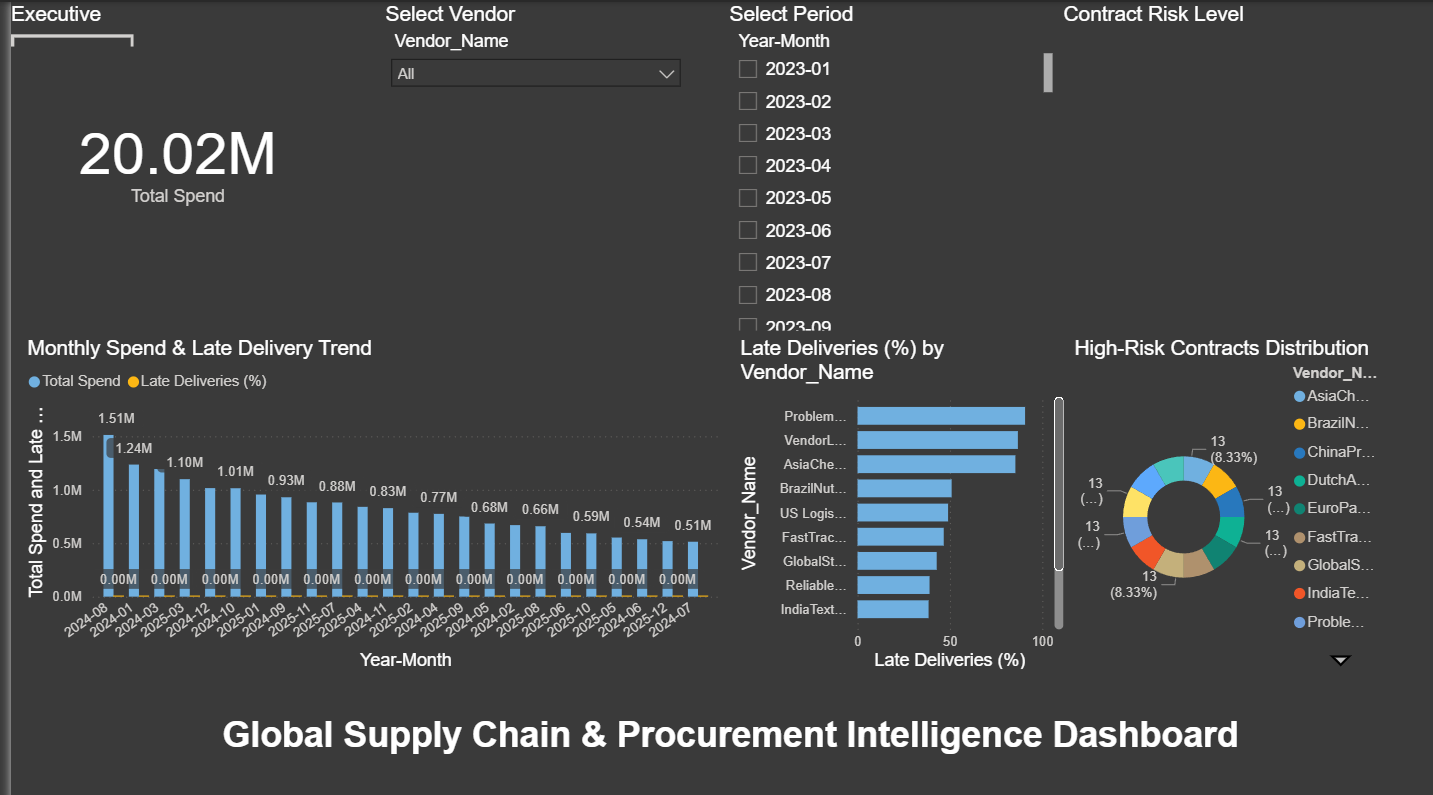

The page's visual inventory and layout, read from the dashboard file:
{"tool":"powerbi","page":{"name":"Executive Overview","canvas":[1280,720],"ordinal":2},"visuals":[{"type":"card","fields":{"Values":["procurement.Total Spend"]},"box":[10,0,280,280],"z":0},{"type":"slicer","title":"Select Vendor","fields":{"Values":["procurement.Vendor_Name"]},"box":[331.2,0,280,280],"z":1},{"type":"slicer","title":"Select Period","fields":{"Values":["Dim_Date.Year-Month"]},"box":[640.1,0,299.9,299.9],"z":2},{"type":"clusteredColumnChart","title":"Contract Risk Level","box":[940,0,299.9,299.9],"z":3},{"type":"lineClusteredColumnComboChart","title":"Monthly Spend & Late Delivery Trend","fields":{"Category":["Dim_Date.Year-Month"],"Y":["procurement.Total Spend","procurement.Late Deliveries (%)"]},"box":[9.9,299.9,630.2,304.3],"z":4},{"type":"clusteredBarChart","fields":{"Category":["procurement.Vendor_Name"],"Y":["procurement.Late Deliveries (%)"]},"box":[650,299.9,299.9,304.3],"z":5},{"type":"donutChart","title":"High-Risk Contracts Distribution","fields":{"Category":["procurement.Vendor_Name"],"Y":["procurement.High-Risk Contracts Count"]},"box":[950,300,290,304],"z":6},{"type":"textbox","box":[184.9,634.7,929.2,50.3],"z":7}]}

Visuals, with their boxes in screenshot pixels (x1, y1, x2, y2), scaled from the page's 1280x720 canvas onto the 1433x795 screenshot:
card - procurement.Total Spend: bbox(11, 0, 325, 309)
"Select Vendor" slicer: bbox(371, 0, 684, 309)
"Select Period" slicer: bbox(717, 0, 1052, 331)
"Contract Risk Level" clusteredColumnChart: bbox(1052, 0, 1388, 331)
"Monthly Spend & Late Delivery Trend" lineClusteredColumnComboChart: bbox(11, 331, 717, 667)
clusteredBarChart - procurement.Vendor_Name x procurement.Late Deliveries (%): bbox(728, 331, 1063, 667)
"High-Risk Contracts Distribution" donutChart: bbox(1064, 331, 1388, 667)
textbox: bbox(207, 701, 1247, 756)
